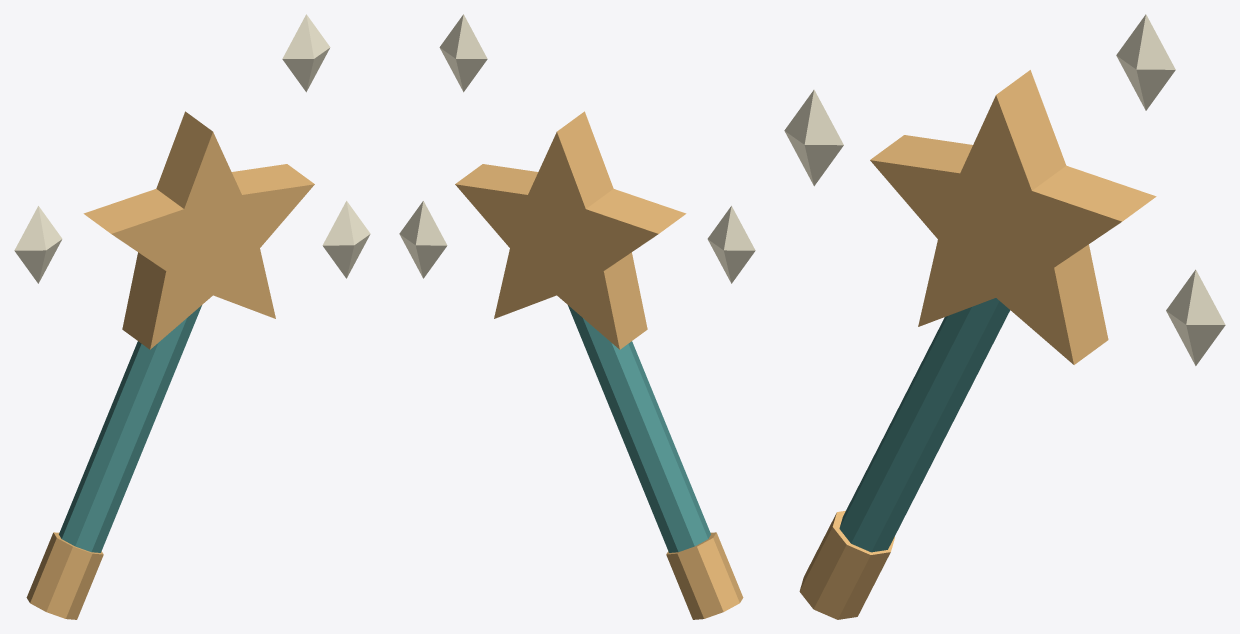
Rendered from magic-wand.glb.
3 renders of one model, left to right at view 1: azimuth 30°, elevation 25°; view 2: azimuth 150°, elevation 25°; view 3: azimuth 330°, elevation 25°, orthographic. The views are drawn at different scales.
Parts seen in each view (by area): view 1: collectible; view 2: collectible; view 3: collectible.
Boxes of the visible parts, <box> form: collectible: <box>14,14,370,619</box>; collectible: <box>399,14,755,619</box>; collectible: <box>784,14,1225,619</box>.
Size of the model in its own units: 1.33 by 1.94 by 0.18.
